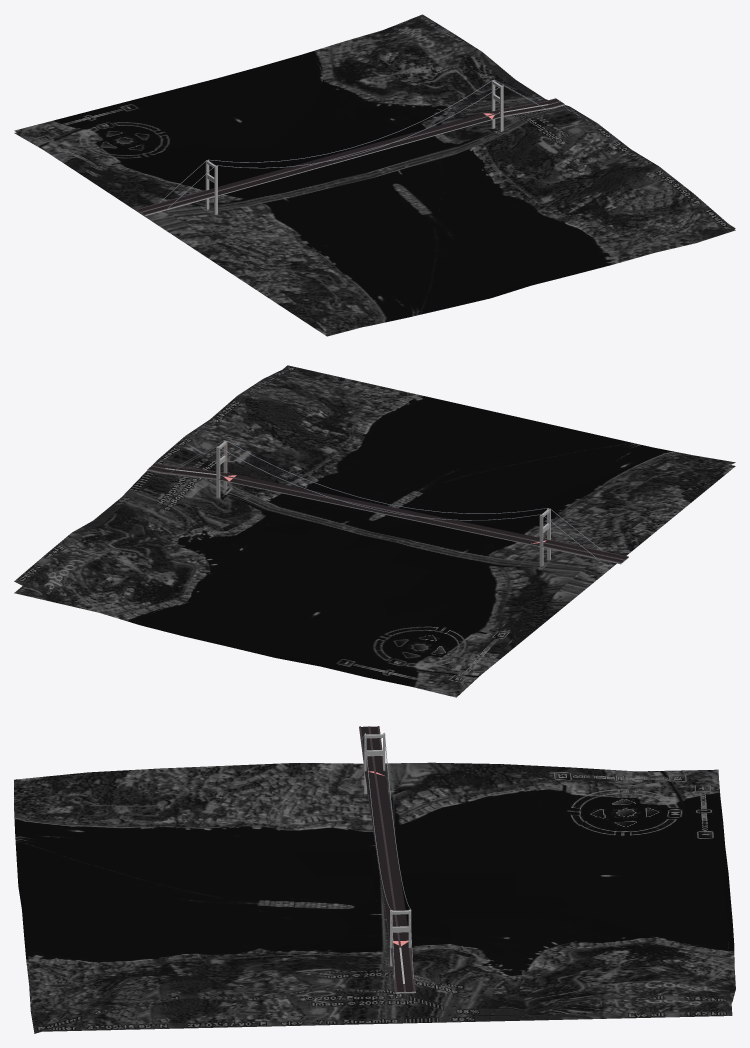
The model's file is fsm-bridge.glb.
The picture shows the model from 3 angles, top to bottom: view 1: azimuth 30°, elevation 25°; view 2: azimuth 150°, elevation 25°; view 3: azimuth 270°, elevation 25°; orthographic projection. The views are drawn at different scales.
Parts seen in each view (by area): view 1: mesh_24_ROOT__Google_Earth_Terrain_Location Terrain_46_46_46, mesh_26_ROOT__Google_Earth_Snapshot_Location Snapshot_46_46_, mesh_12_ROOT_Layer0_67_60_62_ss, mesh_9_ROOT_Layer0_200_200_200_ss, mesh_13_ROOT_Layer0_232_207_214_ss, mesh_10_ROOT_Layer0_105_109_114_ss; view 2: mesh_24_ROOT__Google_Earth_Terrain_Location Terrain_46_46_46, mesh_26_ROOT__Google_Earth_Snapshot_Location Snapshot_46_46_, mesh_12_ROOT_Layer0_67_60_62_ss, mesh_9_ROOT_Layer0_200_200_200_ss, mesh_10_ROOT_Layer0_105_109_114_ss, mesh_13_ROOT_Layer0_232_207_214_ss; view 3: mesh_24_ROOT__Google_Earth_Terrain_Location Terrain_46_46_46, mesh_26_ROOT__Google_Earth_Snapshot_Location Snapshot_46_46_, mesh_12_ROOT_Layer0_67_60_62_ss, mesh_9_ROOT_Layer0_200_200_200_ss, mesh_13_ROOT_Layer0_232_207_214_ss, mesh_10_ROOT_Layer0_105_109_114_ss.
Boxes of the visible parts, x1=… form: mesh_24_ROOT__Google_Earth_Terrain_Location Terrain_46_46_46: x1=14, y1=14, x2=735, y2=332; mesh_26_ROOT__Google_Earth_Snapshot_Location Snapshot_46_46_: x1=14, y1=54, x2=735, y2=336; mesh_12_ROOT_Layer0_67_60_62_ss: x1=137, y1=99, x2=563, y2=214; mesh_9_ROOT_Layer0_200_200_200_ss: x1=136, y1=79, x2=564, y2=215; mesh_13_ROOT_Layer0_232_207_214_ss: x1=136, y1=98, x2=564, y2=214; mesh_10_ROOT_Layer0_105_109_114_ss: x1=159, y1=80, x2=544, y2=208; mesh_24_ROOT__Google_Earth_Terrain_Location Terrain_46_46_46: x1=14, y1=368, x2=735, y2=697; mesh_26_ROOT__Google_Earth_Snapshot_Location Snapshot_46_46_: x1=14, y1=365, x2=735, y2=695; mesh_12_ROOT_Layer0_67_60_62_ss: x1=148, y1=463, x2=627, y2=562; mesh_9_ROOT_Layer0_200_200_200_ss: x1=147, y1=440, x2=628, y2=566; mesh_10_ROOT_Layer0_105_109_114_ss: x1=170, y1=441, x2=602, y2=557; mesh_13_ROOT_Layer0_232_207_214_ss: x1=147, y1=463, x2=628, y2=562; mesh_24_ROOT__Google_Earth_Terrain_Location Terrain_46_46_46: x1=14, y1=762, x2=735, y2=1033; mesh_26_ROOT__Google_Earth_Snapshot_Location Snapshot_46_46_: x1=16, y1=769, x2=732, y2=1031; mesh_12_ROOT_Layer0_67_60_62_ss: x1=361, y1=726, x2=413, y2=991; mesh_9_ROOT_Layer0_200_200_200_ss: x1=359, y1=727, x2=415, y2=993; mesh_13_ROOT_Layer0_232_207_214_ss: x1=359, y1=726, x2=415, y2=992; mesh_10_ROOT_Layer0_105_109_114_ss: x1=361, y1=734, x2=413, y2=979.
Size of the model in its own units: 1690278 by 214804 by 1894319.
17 materials, 6 textured.
